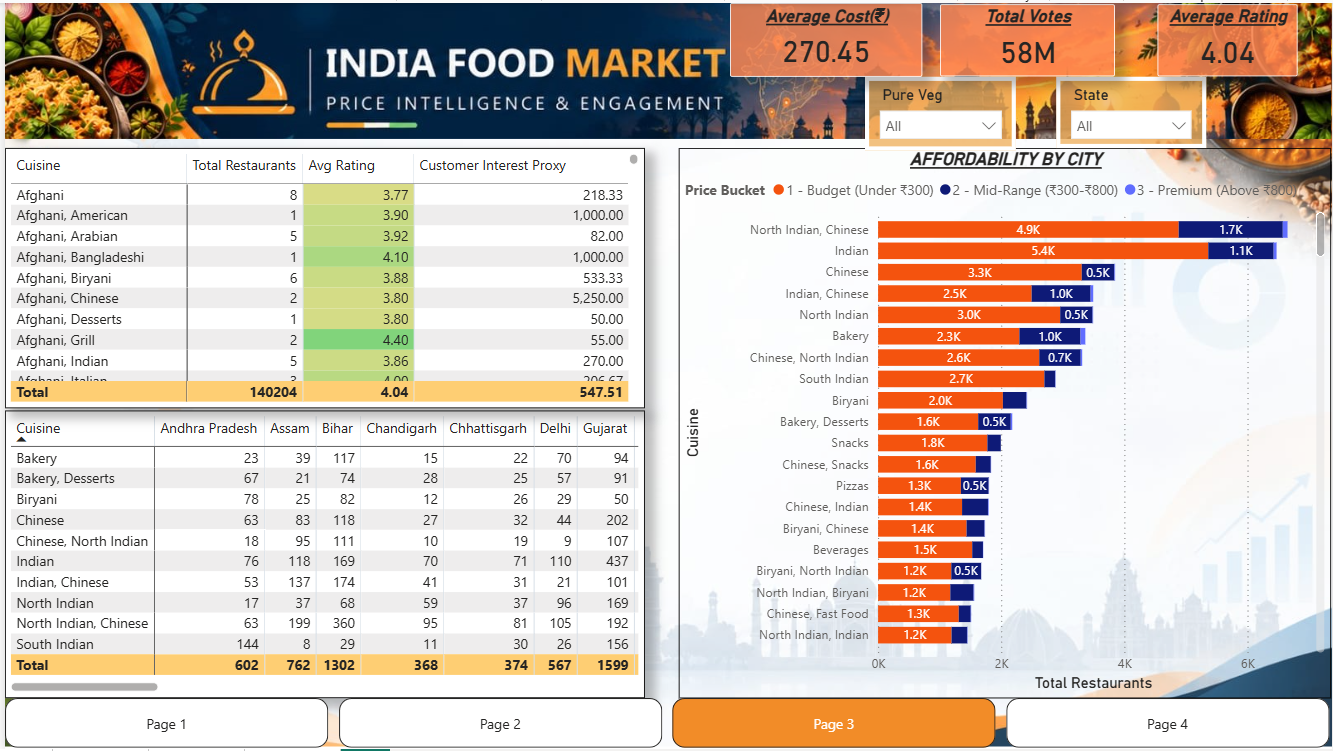

The dashboard page shown, as its layout file describes it:
{"tool":"powerbi","page":{"name":"Page 3","canvas":[1280,720],"ordinal":2},"visuals":[{"type":"slicer","fields":{"Values":["PowerBI_Swiggy_Master.Pure Veg"]},"box":[830,71.2,146,71.2],"z":0,"group":"g1"},{"type":"pivotTable","fields":{"Rows":["PowerBI_Swiggy_Master.Cuisine"],"Values":["PowerBI_Swiggy_Master.Total Restaurants"],"Columns":["PowerBI_Swiggy_Master.State"]},"box":[0,393.3,617.7,277.5],"z":0},{"type":"slicer","fields":{"Values":["PowerBI_Swiggy_Master.State"]},"box":[1014.6,71.2,144.8,68.8],"z":1000,"group":"g1"},{"type":"barChart","title":"AFFORDABILITY  BY CITY","fields":{"Category":["PowerBI_Swiggy_Master.Cuisine"],"Y":["PowerBI_Swiggy_Master.Total Restaurants"],"Series":["PowerBI_Swiggy_Master.Price Bucket"]},"box":[650.3,139.9,629.8,530.8],"z":1000},{"type":"card","title":"Average Cost(₹)","fields":{"Values":["PowerBI_Swiggy_Master.Avg Cost"]},"box":[699.7,0,185.8,71.2],"z":2000,"group":"g1"},{"type":"pivotTable","fields":{"Rows":["PowerBI_Swiggy_Master.Cuisine"],"Values":["PowerBI_Swiggy_Master.Total Restaurants","PowerBI_Swiggy_Master.Avg Rating","PowerBI_Swiggy_Master.Customer Interest Proxy"]},"box":[0,139.9,617.7,250.9],"z":2000},{"type":"image","box":[0,0,1280,131.5],"z":3000},{"type":"card","title":"Average Rating","fields":{"Values":["PowerBI_Swiggy_Master.Avg Rating"]},"box":[1112.3,1.2,135.1,70],"z":3000,"group":"g1"},{"type":"card","title":"Total Votes","fields":{"Values":["Sum(PowerBI_Swiggy_Master.votes_clean)"]},"box":[902.4,1.2,168.9,70],"z":4000,"group":"g1"},{"type":"pageNavigator","box":[0,670.8,1280,48.3],"z":4000},{"type":"group","id":"g1","title":"Group 1","box":[699.7,0,547.7,142.4],"z":5000}]}

Visuals, with their boxes in screenshot pixels (x1, y1, x2, y2), scaled from the page's 1280x720 canvas onto the 1333x751 screenshot:
slicer - PowerBI_Swiggy_Master.Pure Veg: (864, 74, 1016, 149)
pivotTable - PowerBI_Swiggy_Master.Cuisine x PowerBI_Swiggy_Master.Total Restaurants: (0, 410, 643, 700)
slicer - PowerBI_Swiggy_Master.State: (1057, 74, 1207, 146)
"AFFORDABILITY  BY CITY" barChart: (677, 146, 1332, 700)
"Average Cost(₹)" card: (729, 0, 922, 74)
pivotTable - PowerBI_Swiggy_Master.Cuisine x PowerBI_Swiggy_Master.Total Restaurants: (0, 146, 643, 408)
image: (0, 0, 1332, 137)
"Average Rating" card: (1158, 1, 1299, 74)
"Total Votes" card: (940, 1, 1116, 74)
pageNavigator: (0, 700, 1332, 750)
"Group 1" group: (729, 0, 1299, 149)
